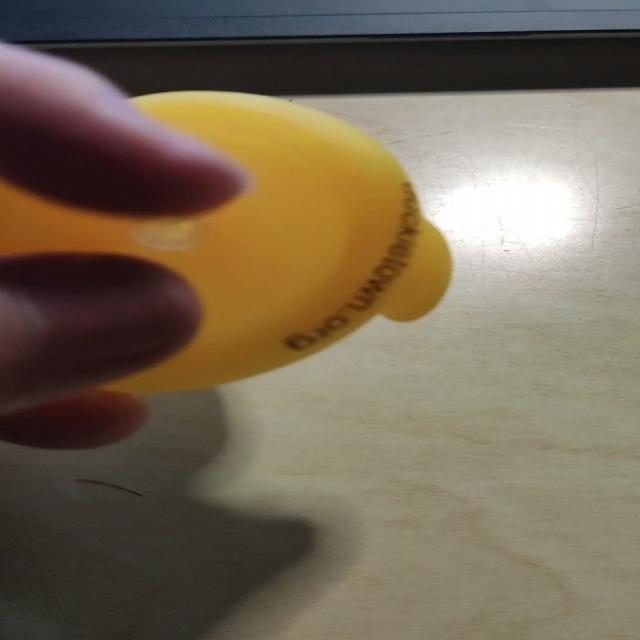rubber-duck: (0, 91, 450, 391)
